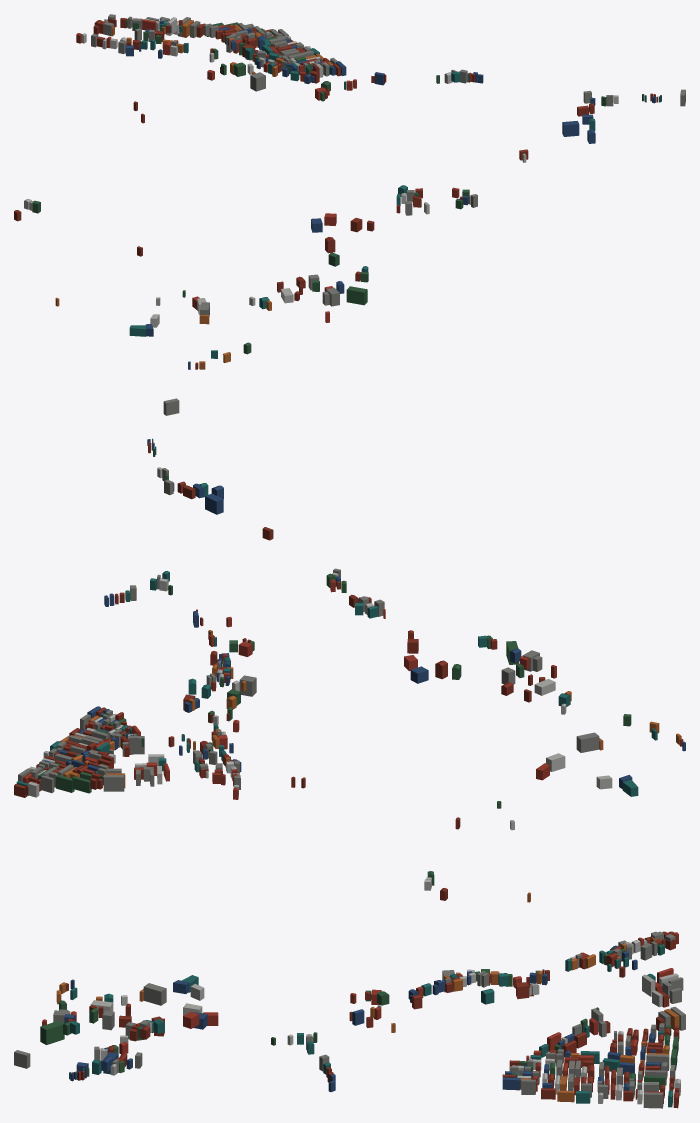
Rendered from near-15-27354-14865.edd3f0af.glb.
3 renders of one model, top to bottom at view 1: azimuth 30°, elevation 25°; view 2: azimuth 150°, elevation 25°; view 3: azimuth 270°, elevation 25°, orthographic. The views are drawn at different scales.
Bounding box in the file's own units: 1185 × 493 × 1185.
